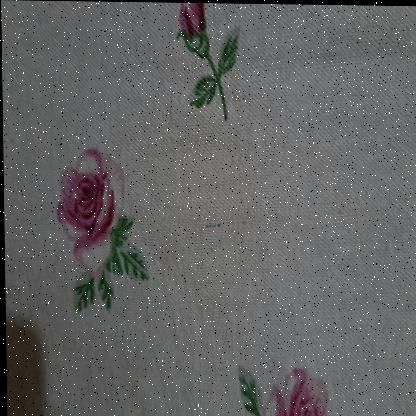spot: (196, 212, 219, 232)
